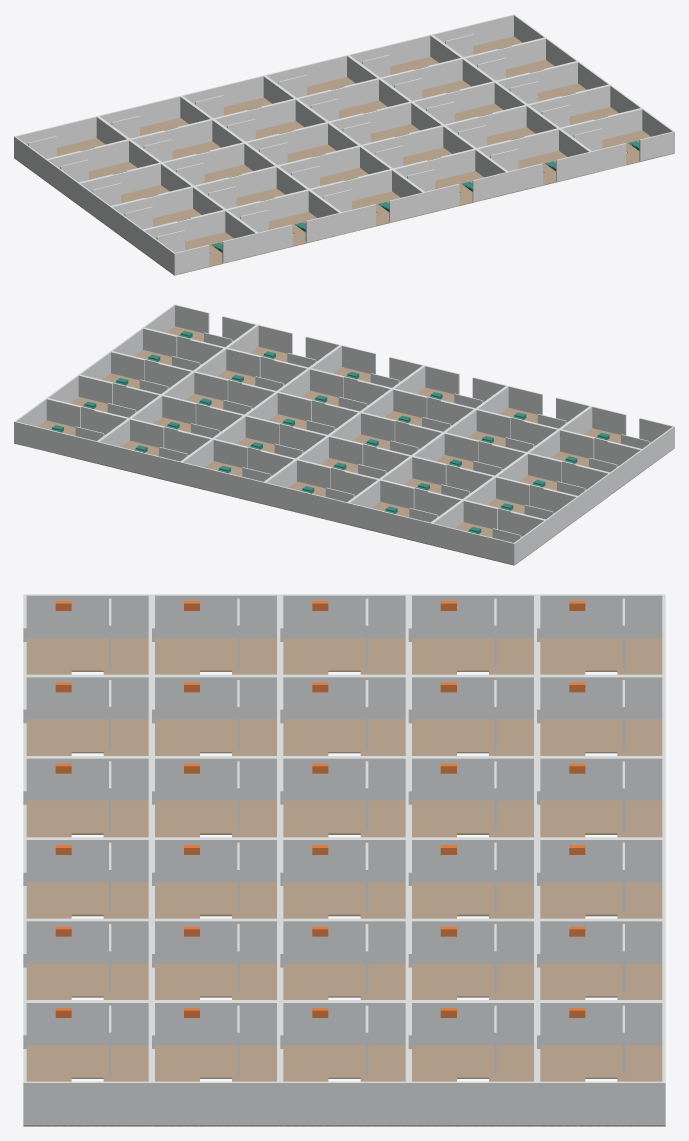
File: venue.glb
The picture shows the model from 3 angles, top to bottom: view 1: azimuth 30°, elevation 25°; view 2: azimuth 150°, elevation 25°; view 3: azimuth 270°, elevation 25°; orthographic projection. The views are drawn at different scales.
Size of the model in its own units: 72 by 3 by 40.
